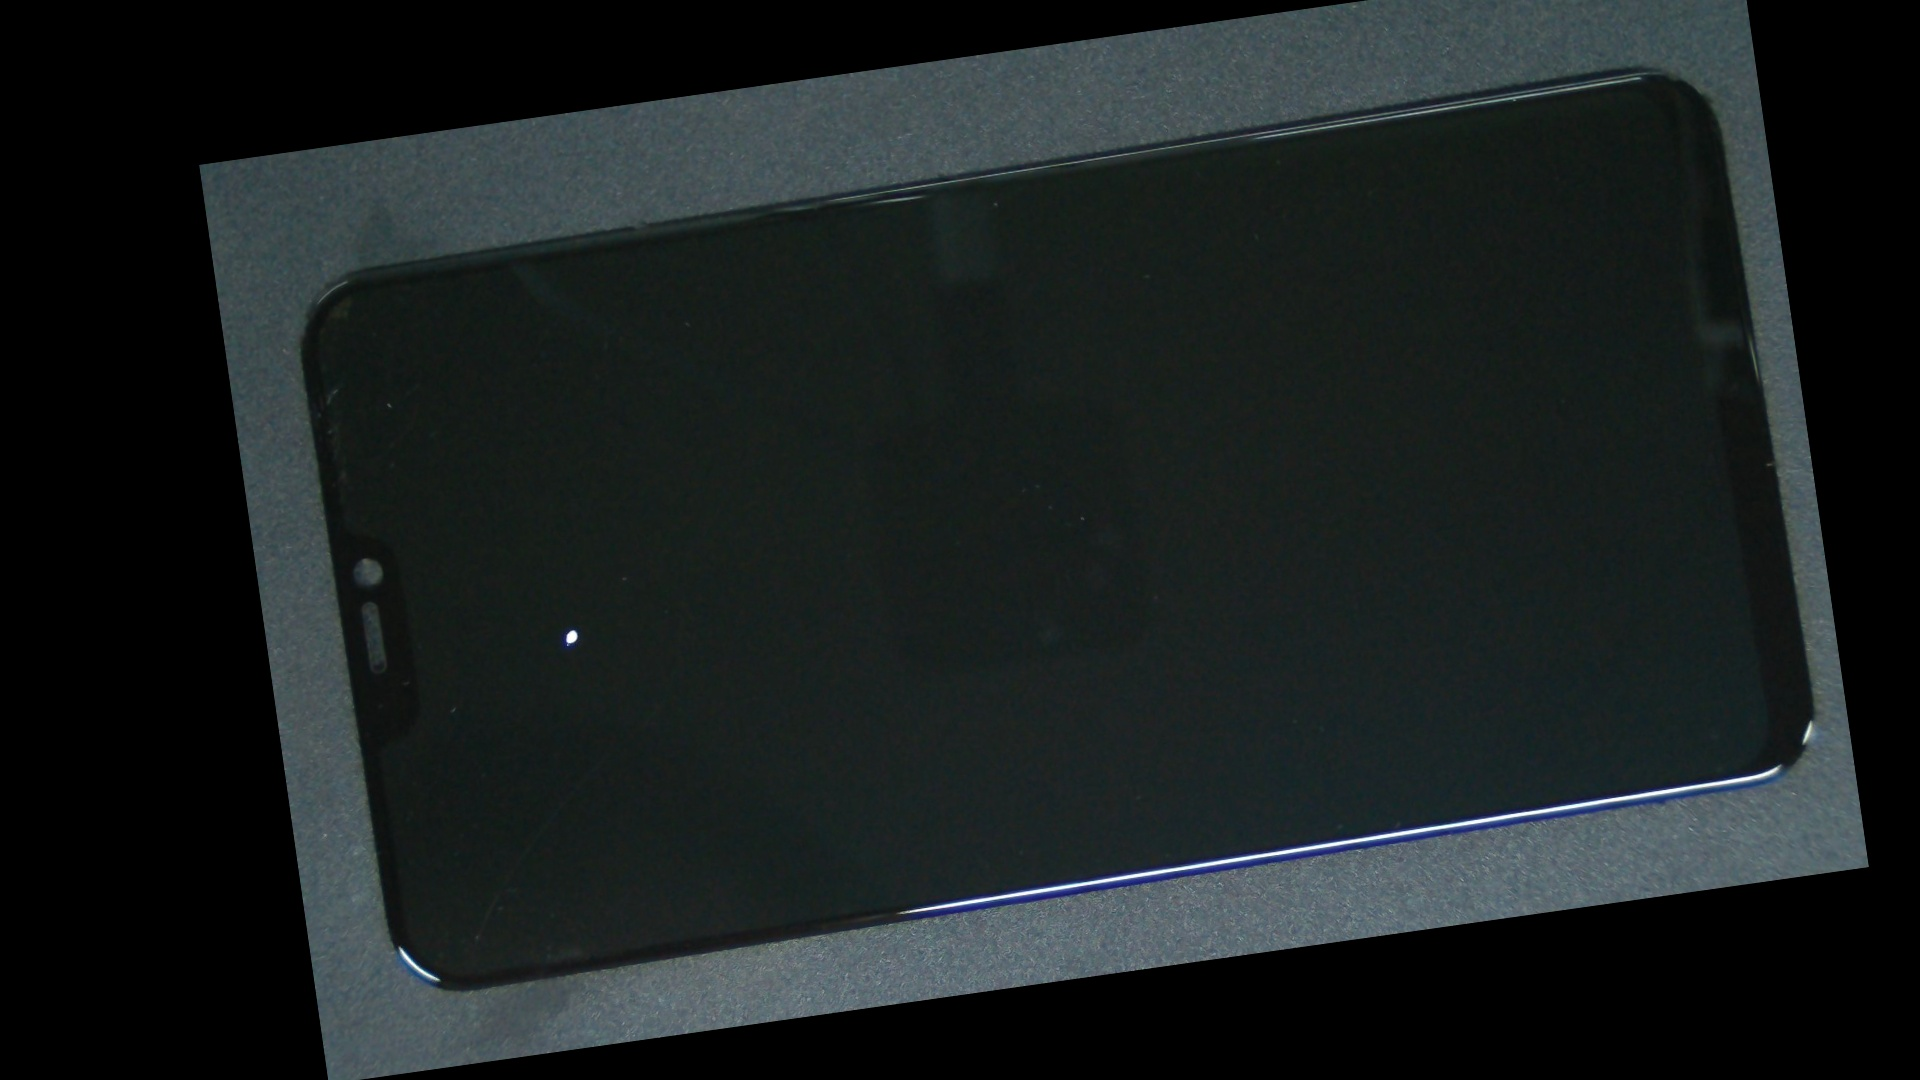oil: (385, 355, 753, 905)
